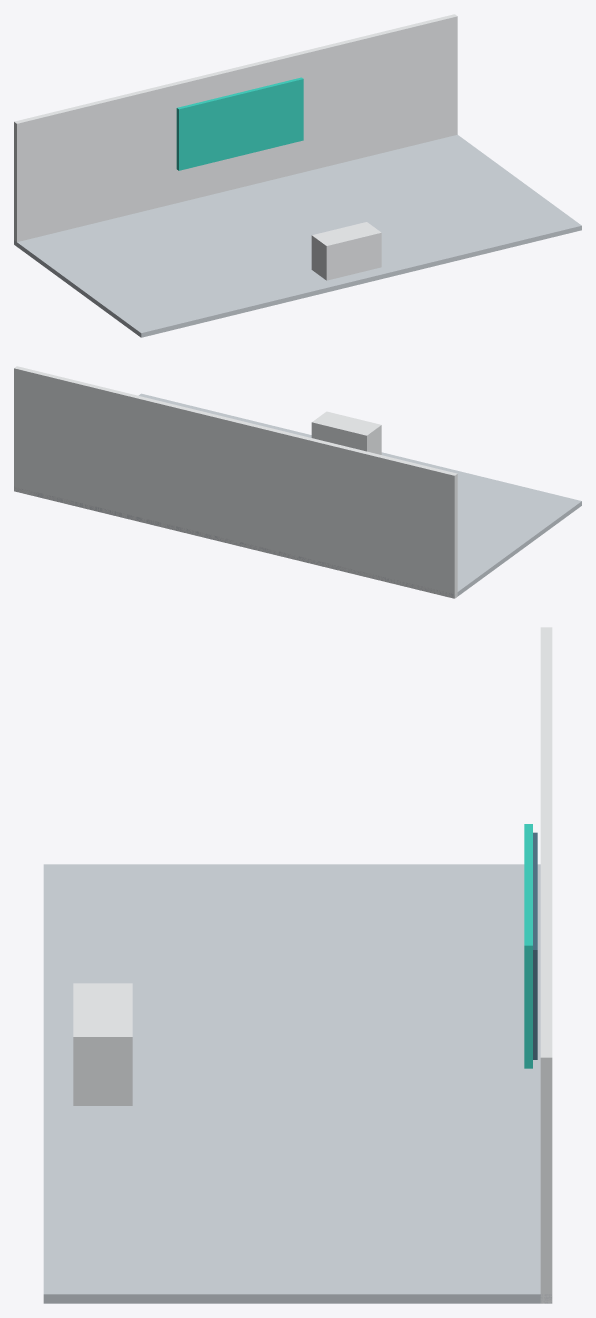
3 renders of one model, top to bottom at view 1: azimuth 30°, elevation 25°; view 2: azimuth 150°, elevation 25°; view 3: azimuth 270°, elevation 25°, orthographic. The views are drawn at different scales.
Parts seen in each view (by area): view 1: Exhibition Booth Concept; view 2: Exhibition Booth Concept; view 3: Exhibition Booth Concept.
Part boxes in pixels (bbox=[...]): Exhibition Booth Concept: bbox=[14, 14, 581, 337]; Exhibition Booth Concept: bbox=[14, 366, 581, 598]; Exhibition Booth Concept: bbox=[43, 627, 552, 1303].
Size of the model in its own units: 12 by 3.2 by 6.
